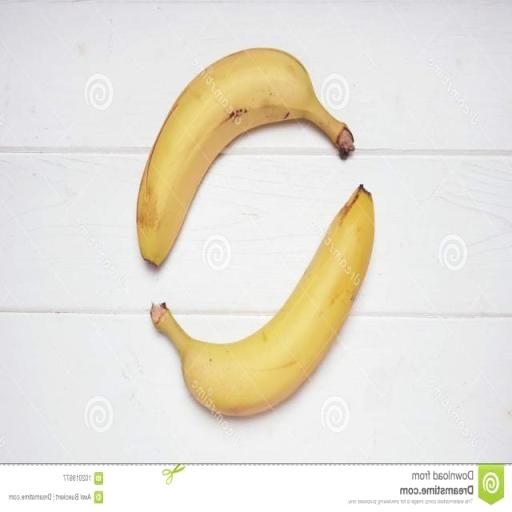fruit: (151, 186, 373, 415), (136, 48, 352, 265)
